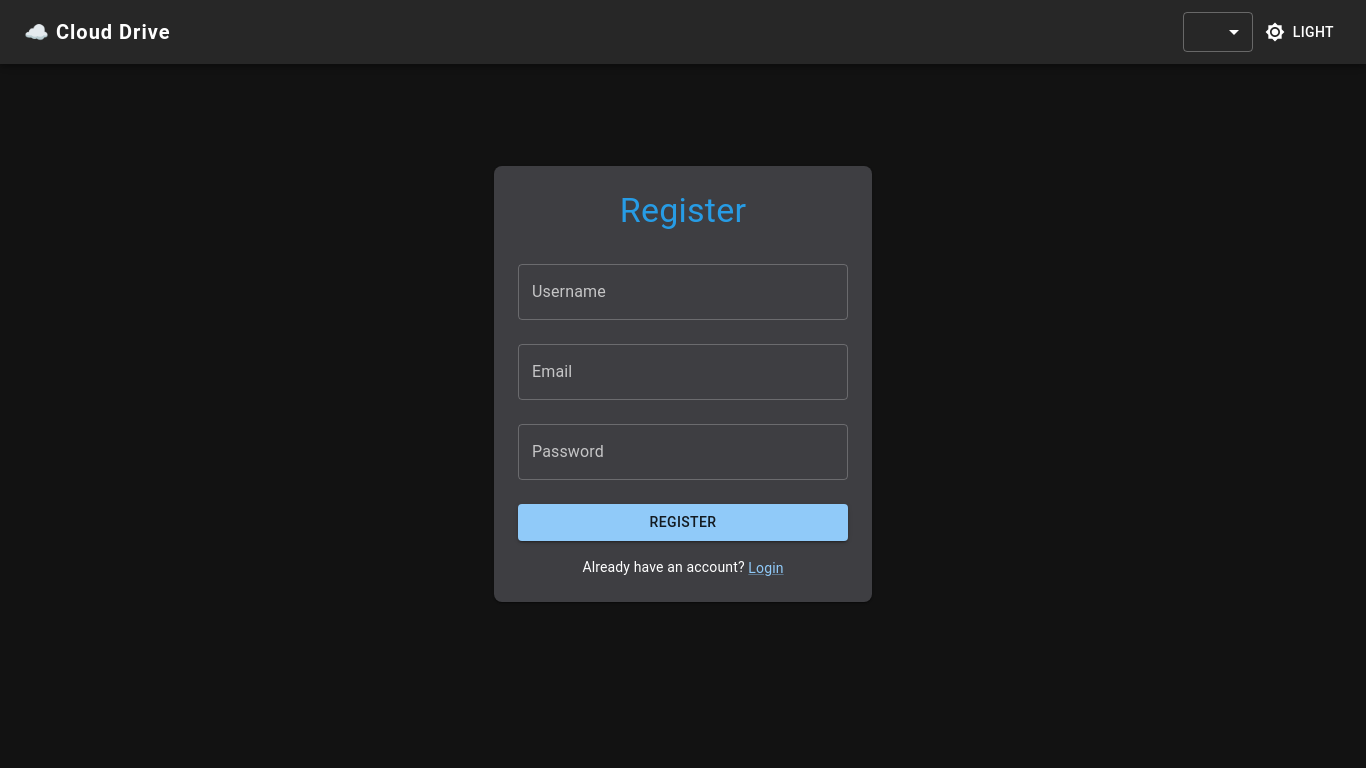
Scenario: Register Form › navigates to login page after successful registration
Fill in valid data
In the field labelled "Username": (683,292) x1=518 y1=264 x2=848 y2=320, type "JohnDoe"
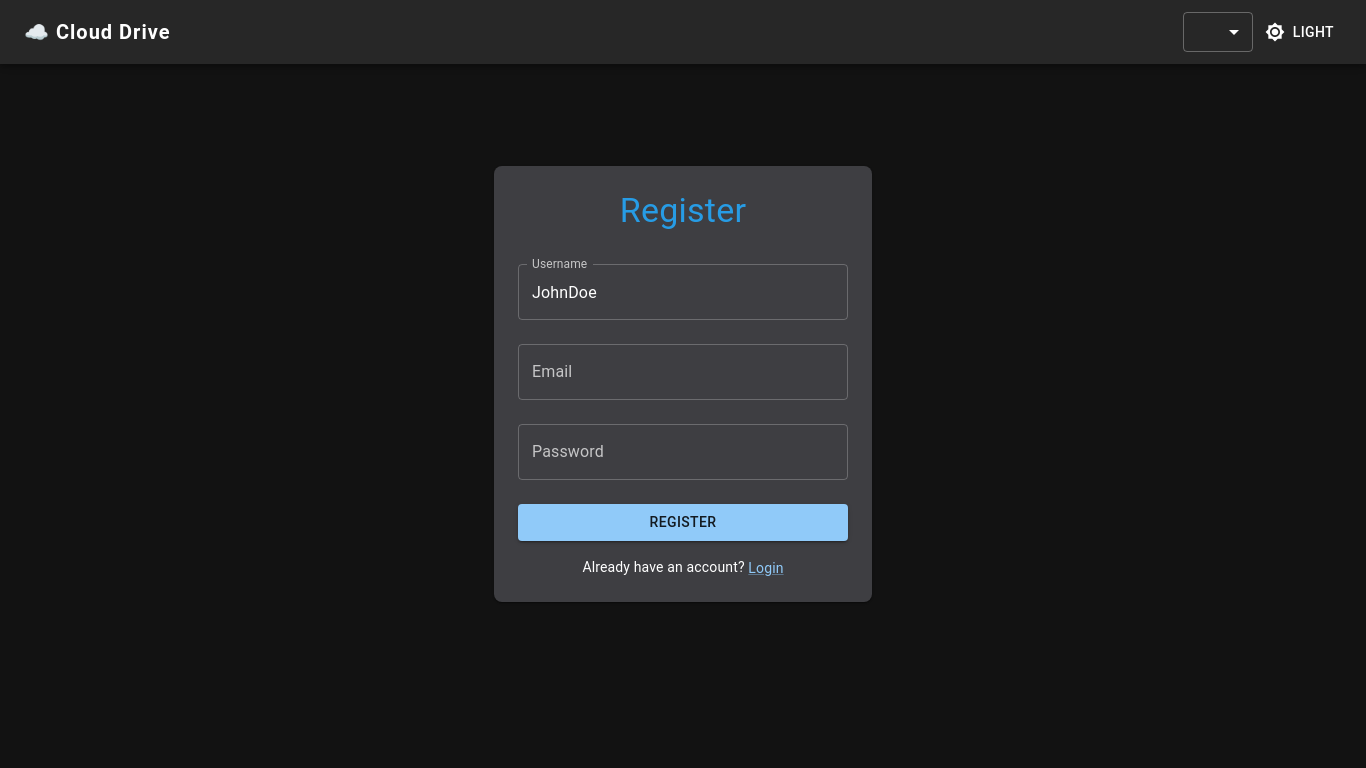
In the field labelled "Email": (683,372) x1=518 y1=344 x2=848 y2=400, type "john@example.com"
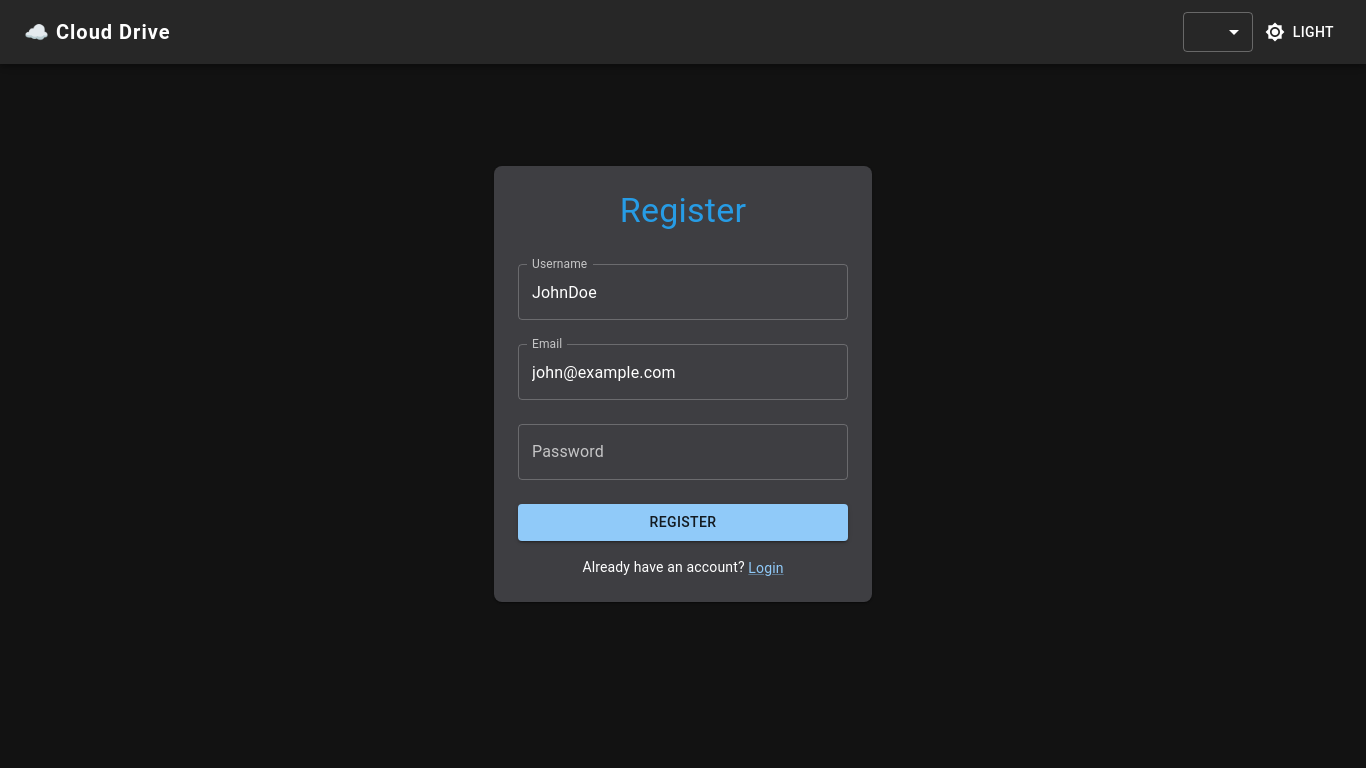
In the password field labelled "Password": (683,452) x1=518 y1=424 x2=848 y2=480, type "Secure#1"
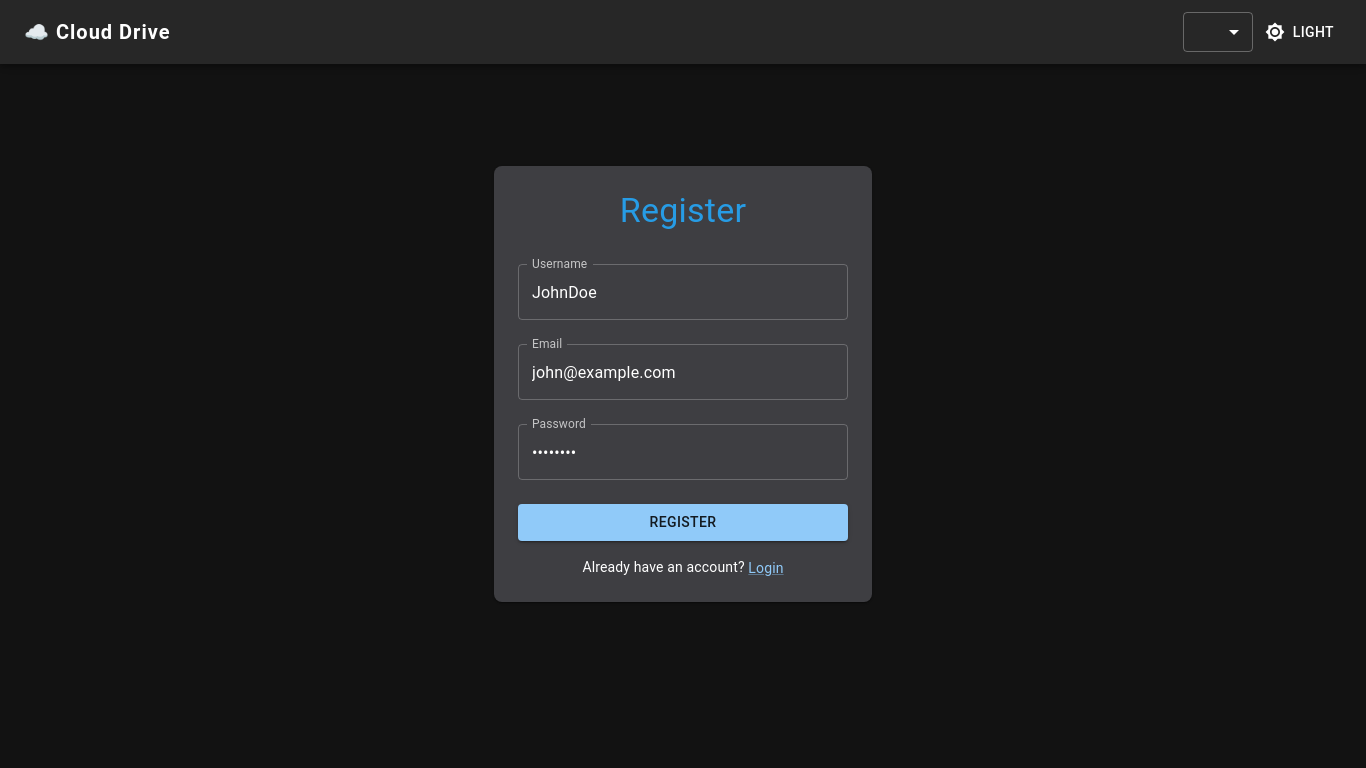
Submit the form labelled "Username Email Password Register", box x1=518 y1=248 x2=848 y2=541
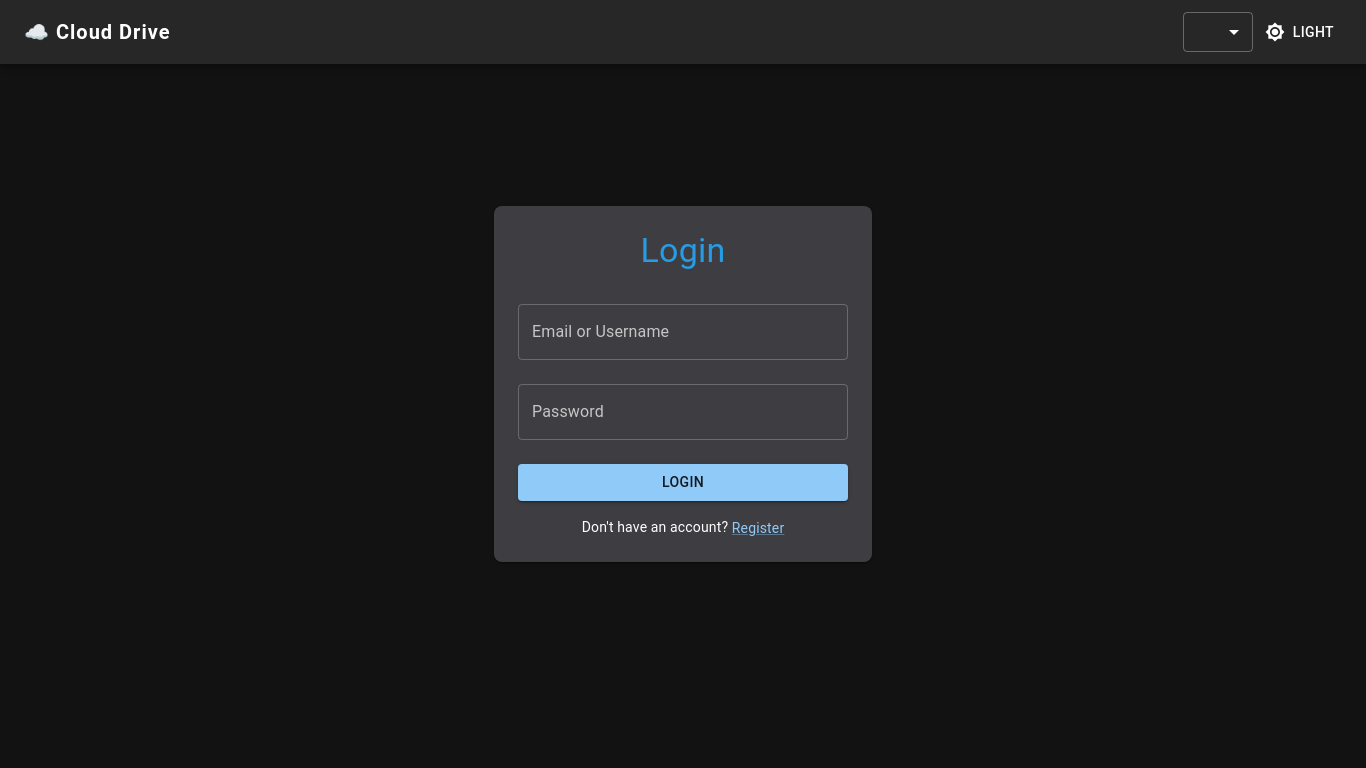
Now the heading "Login" is shown, box x1=640 y1=230 x2=726 y2=270
